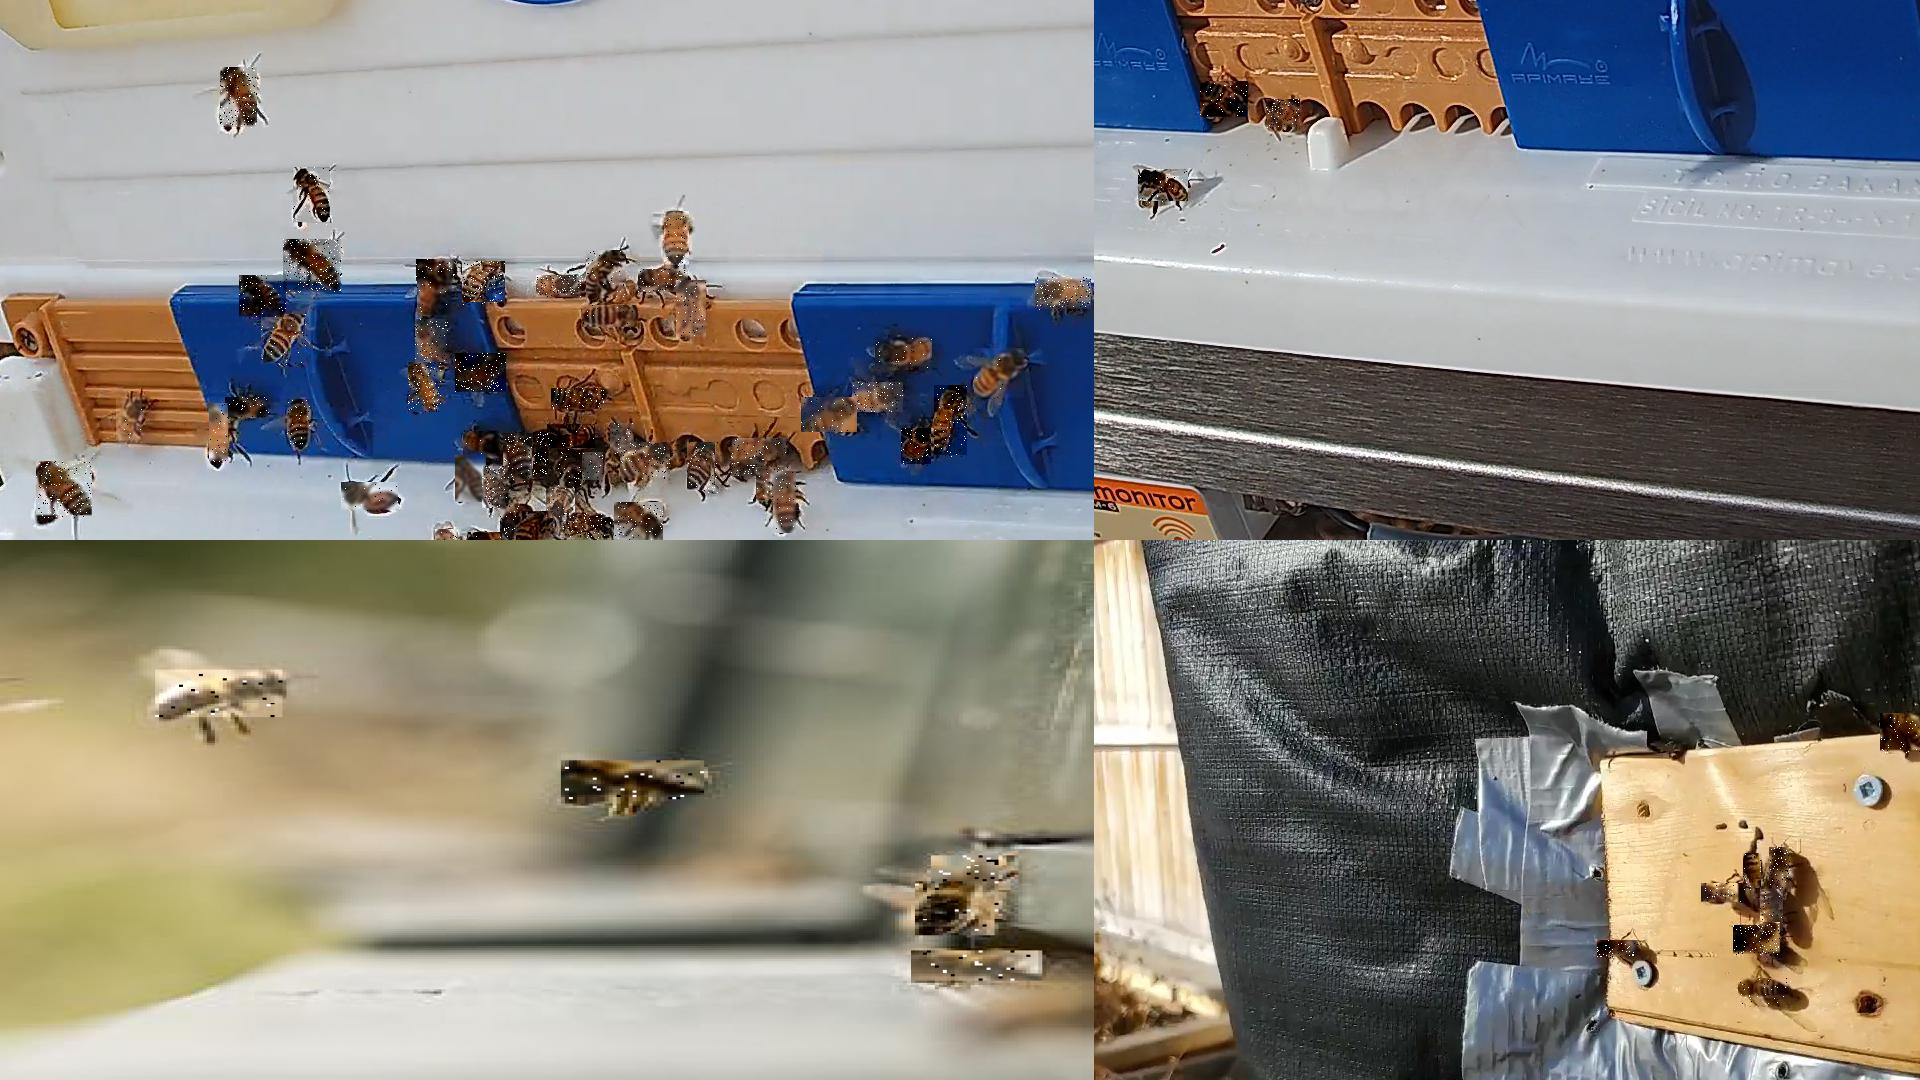bee: (156, 670, 286, 719), (560, 762, 708, 803), (915, 881, 998, 938), (931, 856, 1002, 920), (913, 951, 1047, 984), (284, 240, 344, 295), (37, 462, 94, 520), (975, 348, 1025, 400), (262, 315, 310, 368), (934, 386, 968, 459), (220, 69, 258, 131), (293, 167, 331, 227), (239, 276, 287, 319), (455, 353, 508, 393), (802, 397, 858, 433), (463, 261, 506, 307), (587, 251, 628, 299), (620, 443, 671, 481), (1035, 278, 1092, 313), (876, 338, 934, 371), (1200, 80, 1249, 119), (615, 502, 665, 539), (1138, 170, 1189, 206), (676, 281, 707, 340), (342, 483, 401, 513), (409, 363, 443, 413), (687, 443, 720, 495), (418, 272, 455, 316), (1880, 713, 1919, 756), (455, 455, 488, 504), (852, 382, 905, 413), (774, 471, 799, 534), (415, 319, 450, 364), (1739, 978, 1793, 1006), (665, 212, 691, 269), (1733, 926, 1782, 956), (582, 305, 640, 328), (547, 425, 599, 450), (563, 513, 612, 539), (638, 269, 690, 293), (551, 388, 605, 410), (116, 398, 144, 442), (210, 404, 229, 464), (902, 429, 932, 468), (732, 439, 787, 460), (483, 467, 509, 509), (287, 400, 311, 446), (558, 450, 585, 489), (516, 512, 555, 539), (537, 276, 585, 298), (757, 467, 790, 500), (500, 506, 533, 539), (1760, 890, 1784, 935), (464, 431, 502, 459), (546, 488, 576, 522), (1770, 847, 1792, 893), (1266, 100, 1302, 129), (225, 397, 270, 418), (731, 451, 765, 477), (417, 260, 456, 282), (1598, 940, 1640, 960), (611, 423, 636, 456), (1702, 884, 1743, 903), (533, 433, 549, 477), (1743, 855, 1762, 893), (582, 452, 604, 481), (467, 531, 504, 539), (435, 529, 459, 539)
pollenbee: (504, 434, 533, 484)
